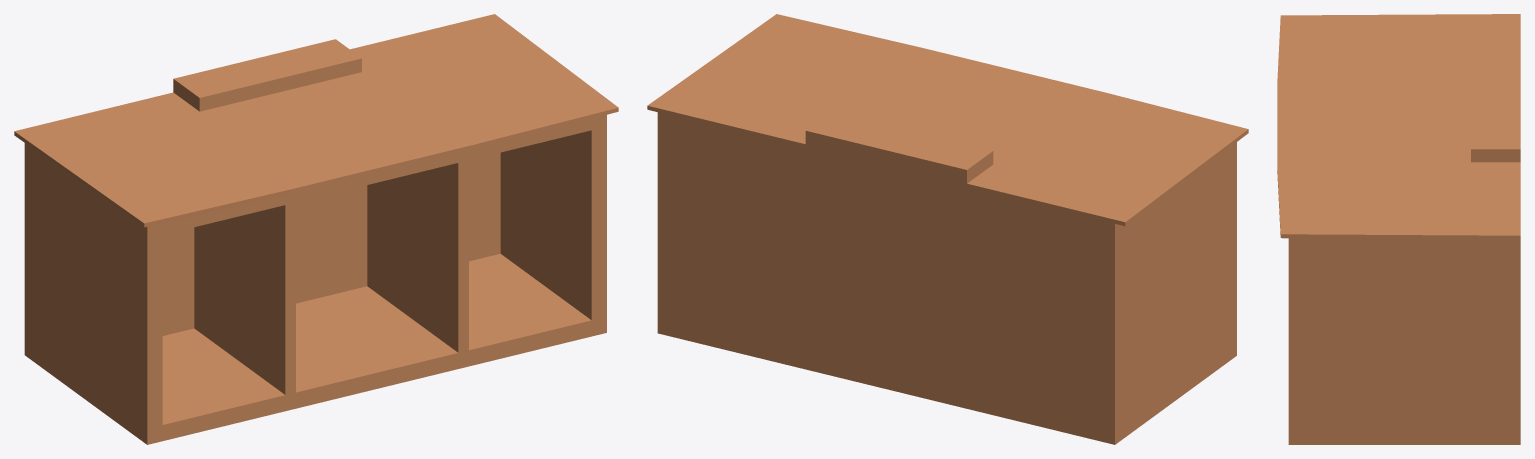
File: tv_bottom.fbx
3 renders of one model, left to right at view 1: azimuth 30°, elevation 25°; view 2: azimuth 150°, elevation 25°; view 3: azimuth 270°, elevation 25°, orthographic. The views are drawn at different scales.
Visible parts, largest first — view 1: TV_bottom; view 2: TV_bottom; view 3: TV_bottom.
Part boxes in pixels (x1,y1,x2,y2): TV_bottom: (14,14,618,444); TV_bottom: (647,14,1248,444); TV_bottom: (1277,14,1520,444).
Bounding box in the file's own units: 452 × 216 × 210.
